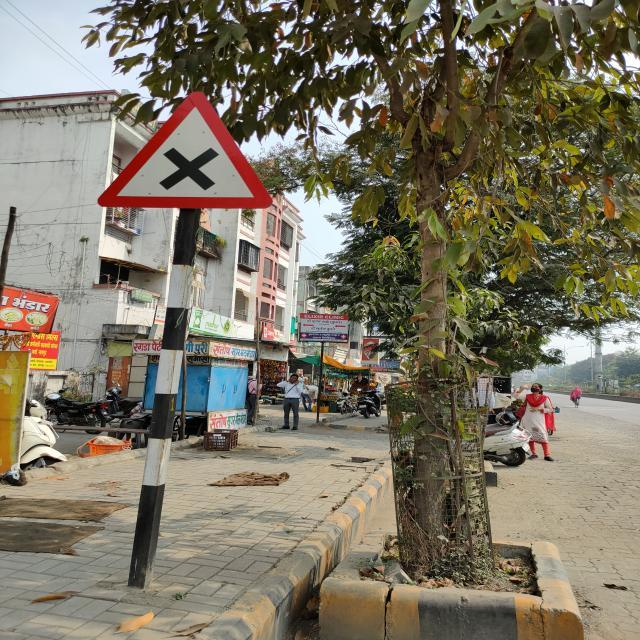cross road: (97, 90, 274, 211)
